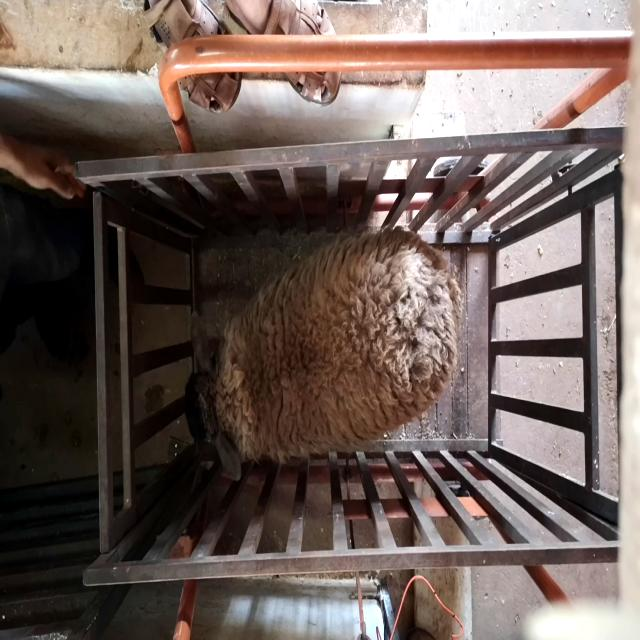sheep: (185, 227, 463, 478)
